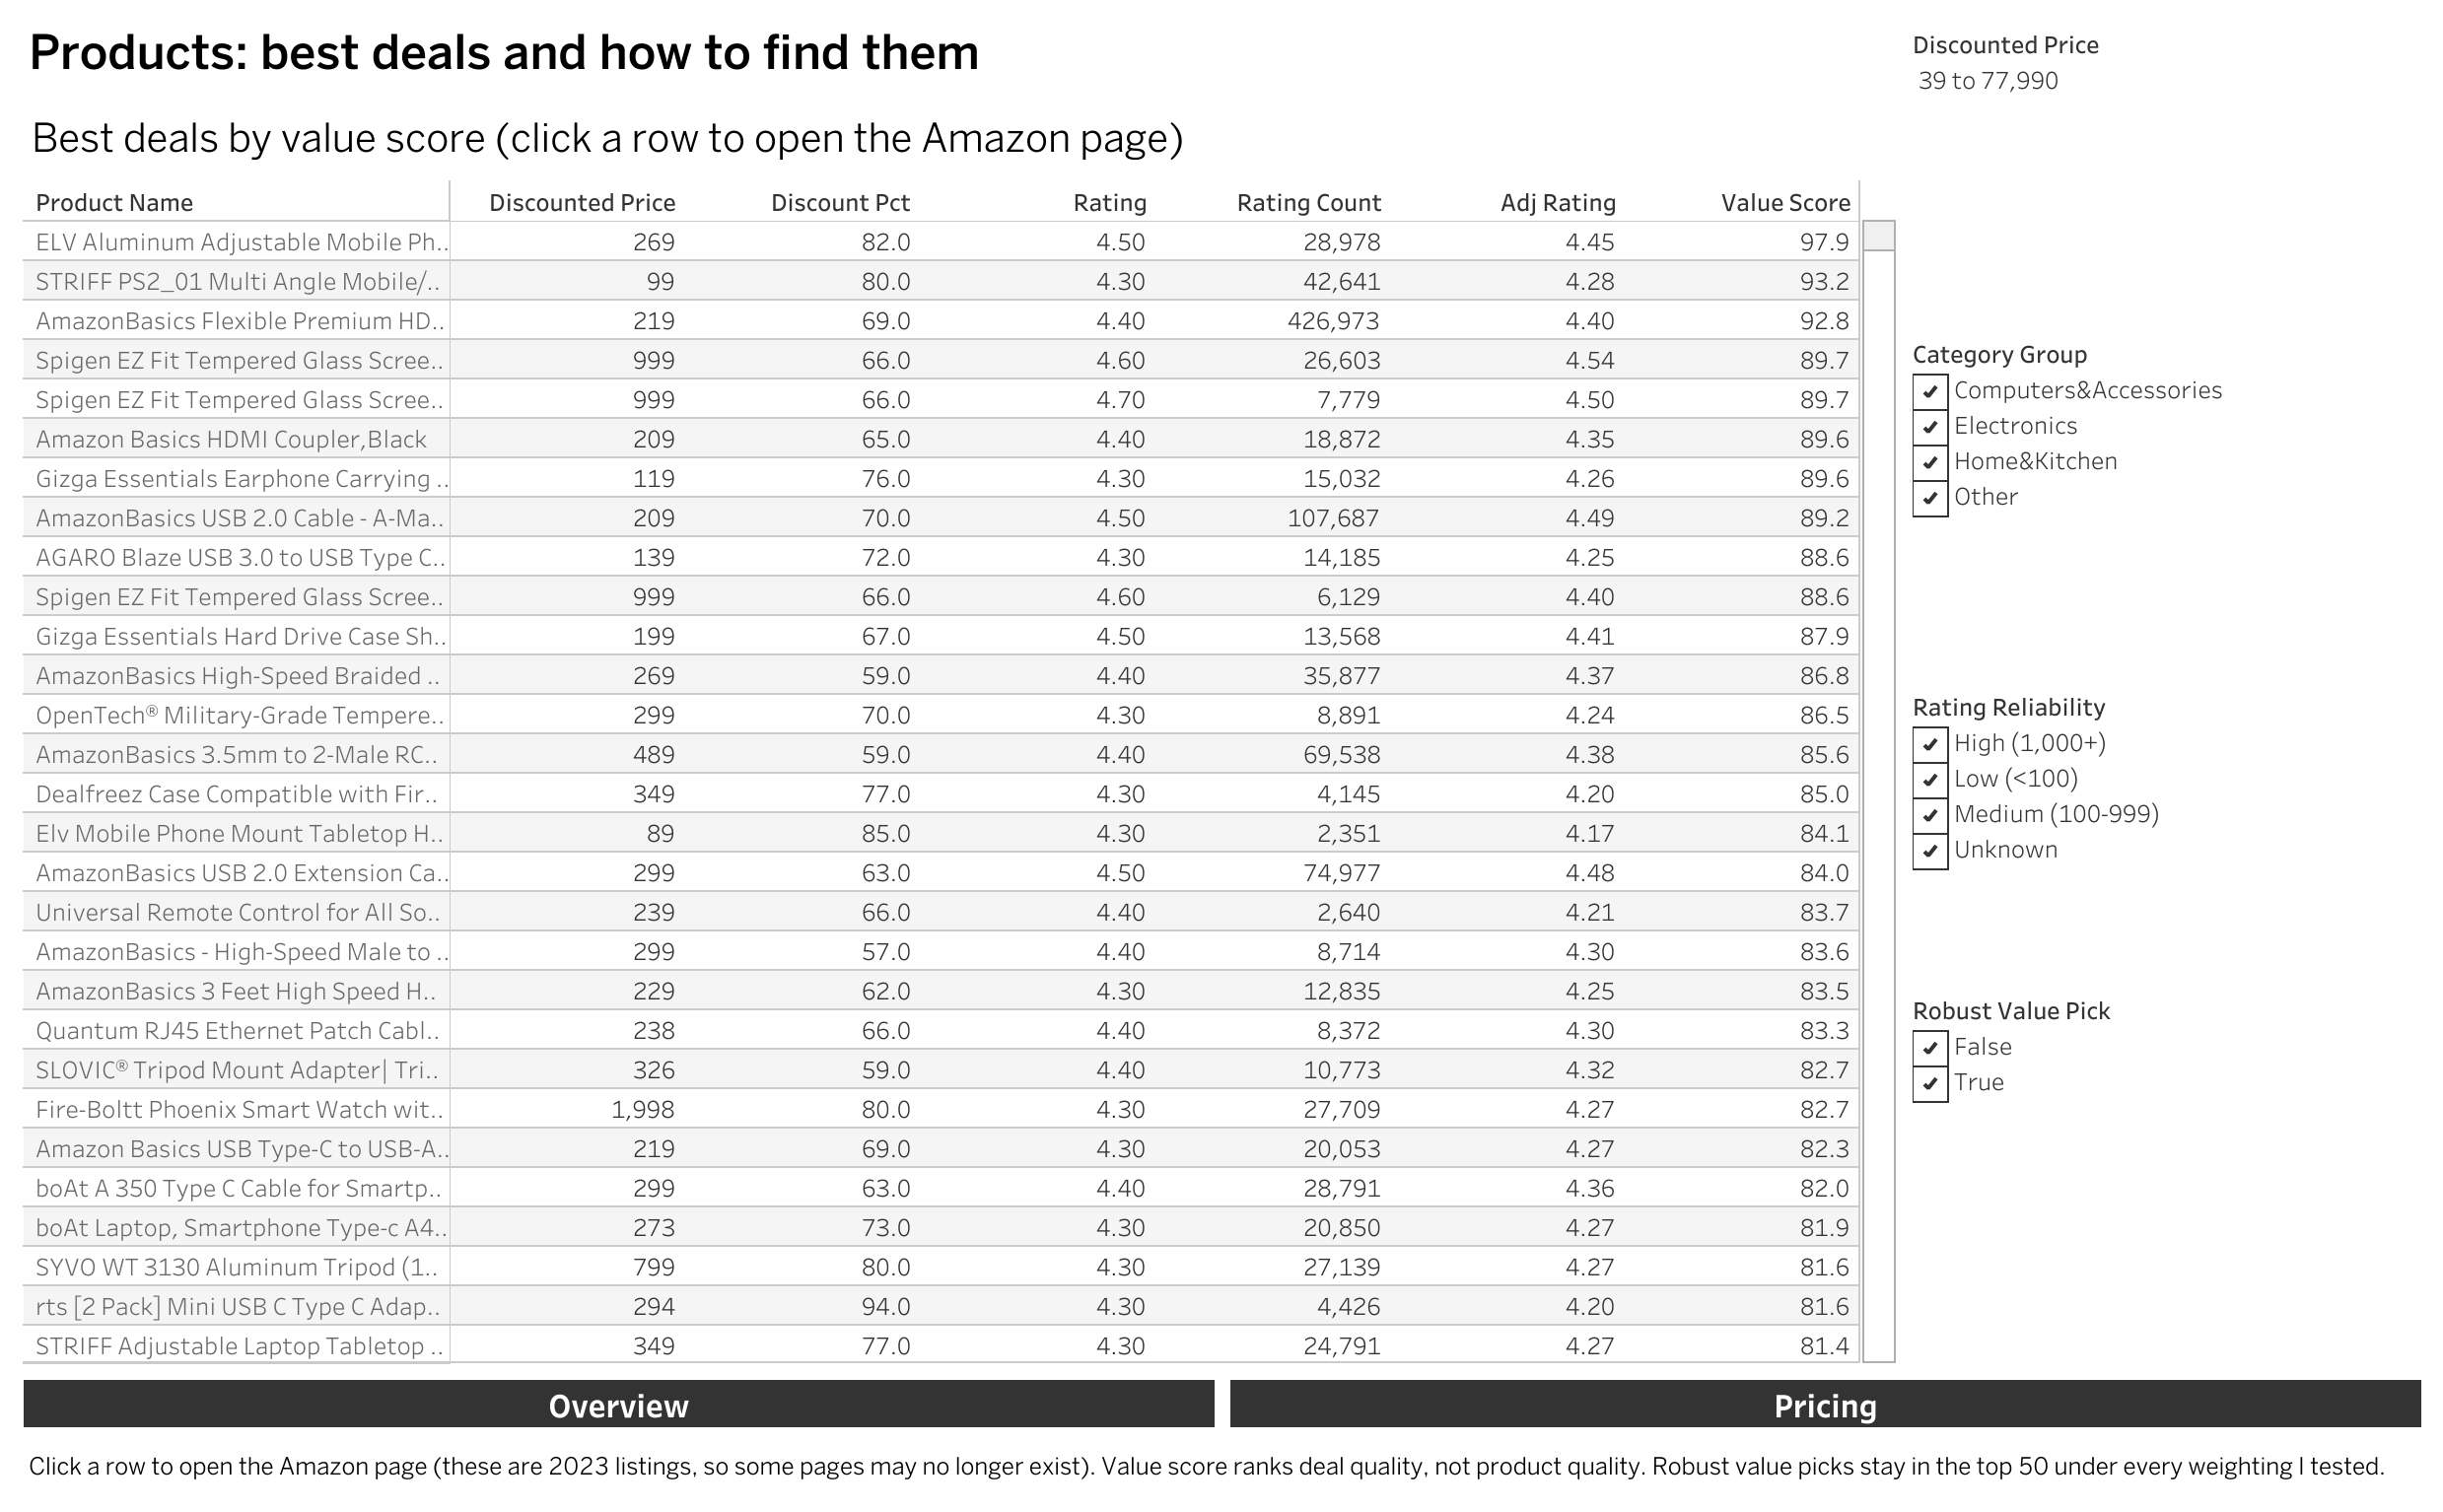

This screenshot's page, from the dashboard's own definition file:
{"tool":"tableau","page":{"name":"Products","canvas":[1000,1000],"units":"permille","ordinal":2},"visuals":[{"type":"title","box":[5.9,10.4,793.6,48.2]},{"type":"filter","title":"Top Products","param":"[federated.1sc7opd0tyk4oe1c6oxqi0ae51db].[sum:discounted_price:qk]","box":[799.4,10.4,194.7,204.4]},{"type":"worksheet","title":"Top Products","mark":"Automatic","rows":["product_id","product_name"],"box":[5.9,58.6,793.6,847.6]},{"type":"filter","title":"Top Products","param":"[federated.1sc7opd0tyk4oe1c6oxqi0ae51db].[none:category_group:nk]","box":[799.4,214.8,194.7,233.1]},{"type":"filter","title":"Top Products","param":"[federated.1sc7opd0tyk4oe1c6oxqi0ae51db].[none:rating_reliability:nk]","box":[799.4,447.9,194.7,200.5]},{"type":"filter","title":"Top Products","param":"[federated.1sc7opd0tyk4oe1c6oxqi0ae51db].[none:robust_value_pick:nk]","box":[799.4,648.5,194.7,115.9]},{"type":"dashboard-object","box":[5.9,906.2,494.1,41.7]},{"type":"dashboard-object","box":[500,906.2,494.1,41.7]},{"type":"text","box":[5.9,947.9,988.3,41.7]}]}

Visuals, with their boxes on the dashboard's canvas, which has no fixed pixel size, in thousandths of its width and height (x1, y1, x2, y2). These are canvas units, not pixel positions in the 2443x1512 screenshot, which may show the page scaled, cropped or inside an application window:
title: 6:10:800:59
"Top Products" filter: 799:10:994:215
"Top Products" worksheet: 6:59:800:906
"Top Products" filter: 799:215:994:448
"Top Products" filter: 799:448:994:648
"Top Products" filter: 799:648:994:764
dashboard-object: 6:906:500:948
dashboard-object: 500:906:994:948
text: 6:948:994:990
